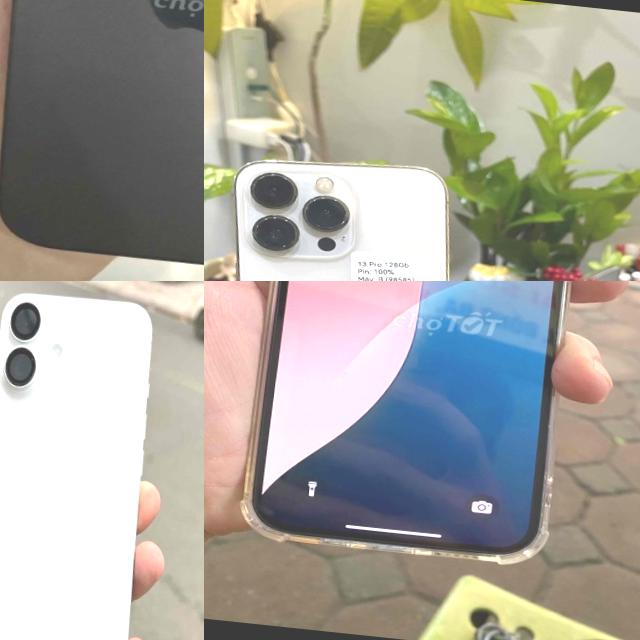gen_12_13: (221, 281, 604, 584), (204, 138, 495, 281)
gen_14: (0, 0, 204, 281)
gen_16: (0, 281, 169, 640)
